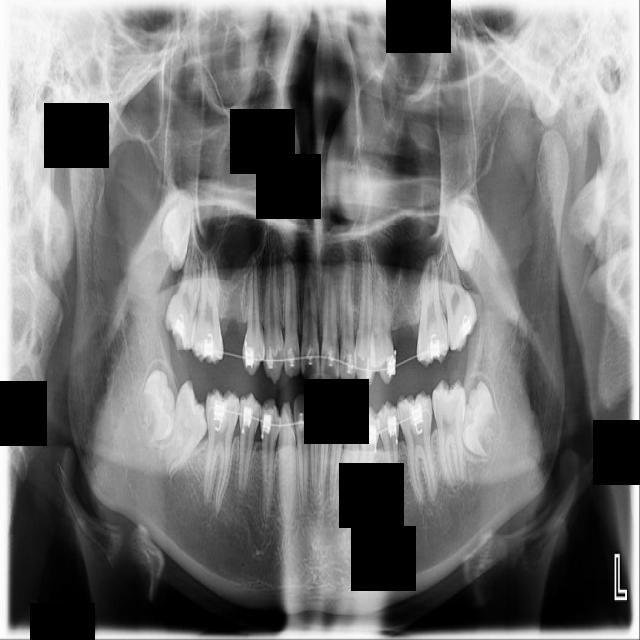3M ESPE Implant: (158, 191, 193, 273)
73: (620, 609, 630, 619)
BioHorizons Implant: (435, 236, 481, 355)
BioLife Implant: (445, 202, 485, 274)
Biomet 3i Implant: (453, 378, 507, 460)
Blue Sky Bio Implant: (432, 380, 466, 489)
Caries: (161, 233, 207, 353)
Implant: (148, 377, 222, 485)
Keystone Dental Implant: (133, 367, 182, 444)
